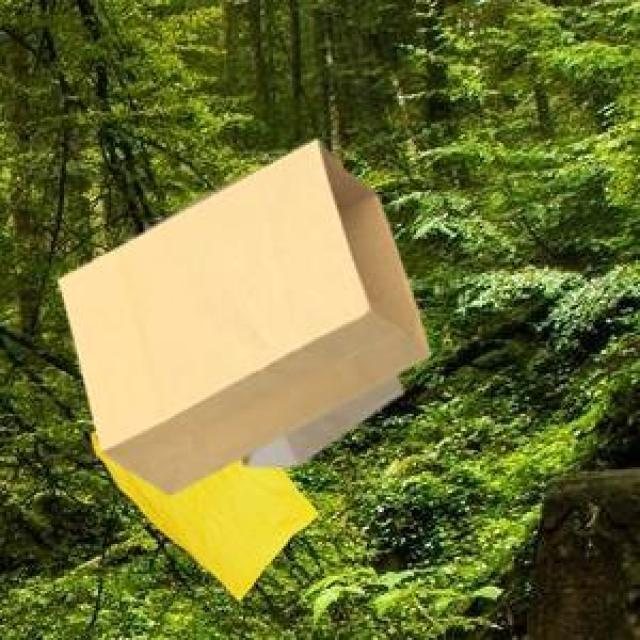paper: (53, 137, 427, 491), (201, 272, 399, 463), (171, 177, 233, 272)
